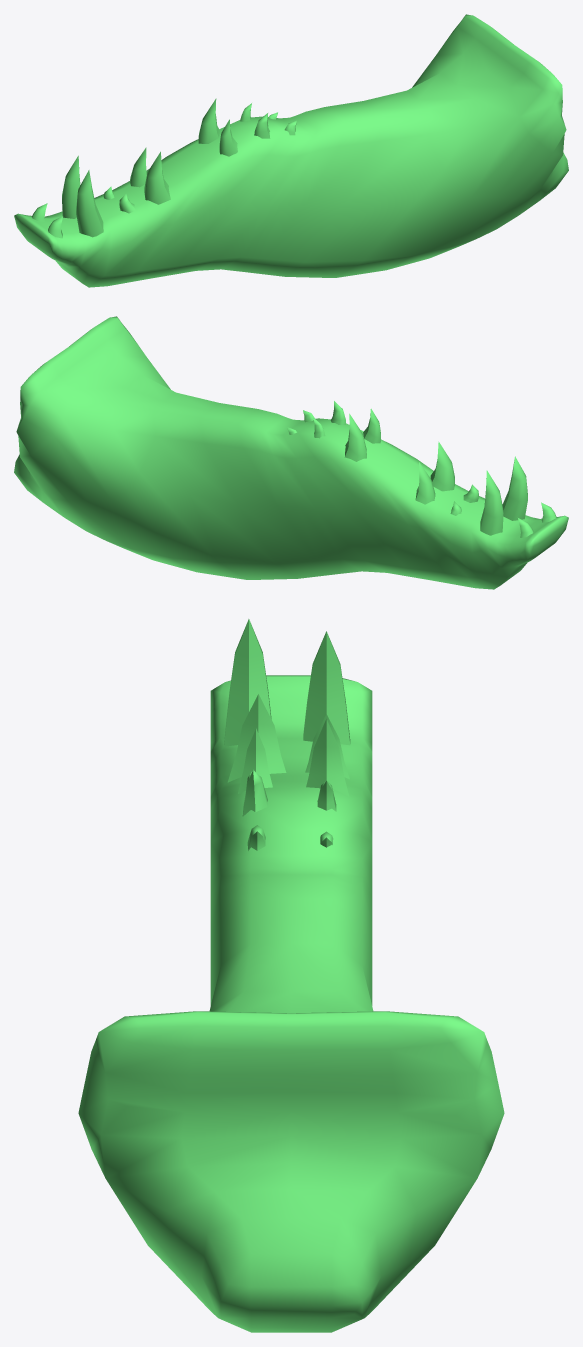
Rendered from Skull.FBX.
3 views of the same model, one above another, from view 1: azimuth 30°, elevation 25°; view 2: azimuth 150°, elevation 25°; view 3: azimuth 270°, elevation 25° (orthographic). The views are drawn at different scales.
Parts seen in each view (by area): view 1: Skull; view 2: Skull; view 3: Skull.
Boxes of the visible parts, x1,y1,x2,y2 form: Skull: [14, 14, 568, 287]; Skull: [14, 316, 568, 589]; Skull: [78, 619, 504, 1332].
Bounding box in the file's own units: 48.19 × 17.19 × 17.
